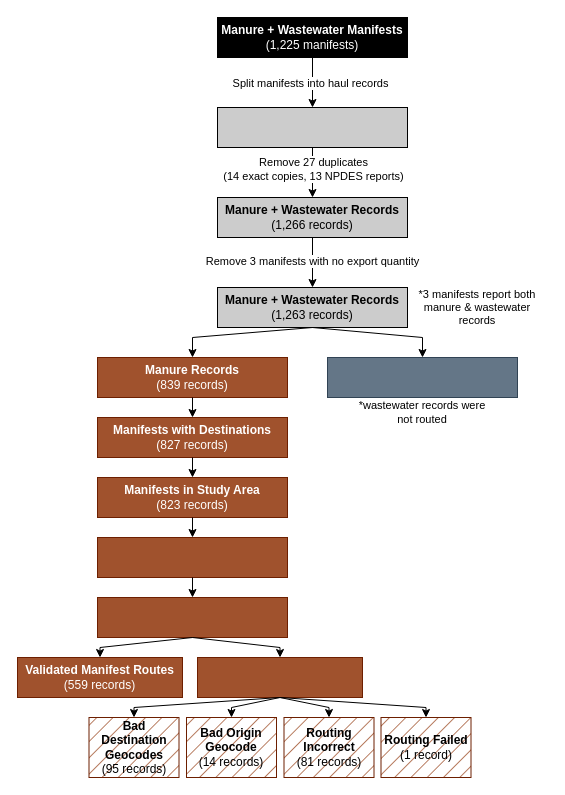
The diagram is 565 pixels wide and 795 high, and some of its shapes have lost their labels. The centre of each missing label's shape, as x and y in pixels:
Dropped Manifest Routes (191 records): (279,677)
Manifest Routes with in-county APNs (750 records): (192,617)
Manifests with Successful Geocodes (761 records): (192,557)
Manure + Wastewater Records (1,293 records): (312,127)
Wastewater Records (427 records): (422,377)
